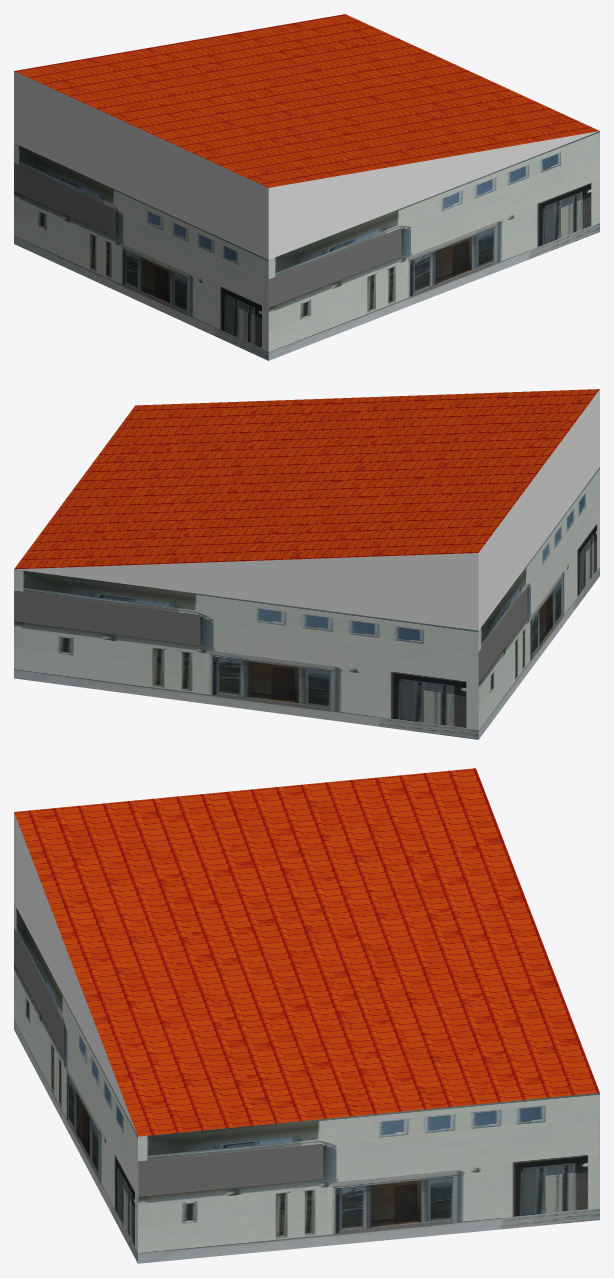
3 renders of one model, top to bottom at view 1: azimuth 30°, elevation 25°; view 2: azimuth 150°, elevation 25°; view 3: azimuth 270°, elevation 25°, orthographic. The views are drawn at different scales.
Parts seen in each view (by area): view 1: CityEngineMaterial_11_m, CityEngineMaterial_12_m, CityEngineMaterial_3_m; view 2: CityEngineMaterial_12_m, CityEngineMaterial_11_m, CityEngineMaterial_3_m; view 3: CityEngineMaterial_12_m, CityEngineMaterial_11_m, CityEngineMaterial_3_m.
Part boxes in pixels (<box>): CityEngineMaterial_11_m: <box>14,131,599,360</box>; CityEngineMaterial_12_m: <box>14,14,599,187</box>; CityEngineMaterial_3_m: <box>14,71,599,259</box>; CityEngineMaterial_12_m: <box>14,389,599,569</box>; CityEngineMaterial_11_m: <box>14,467,599,739</box>; CityEngineMaterial_3_m: <box>15,389,599,630</box>; CityEngineMaterial_12_m: <box>14,768,599,1136</box>; CityEngineMaterial_11_m: <box>14,903,599,1263</box>; CityEngineMaterial_3_m: <box>14,812,137,1134</box>.
Bounding box in the file's own units: 25.91 × 9.48 × 23.11.
